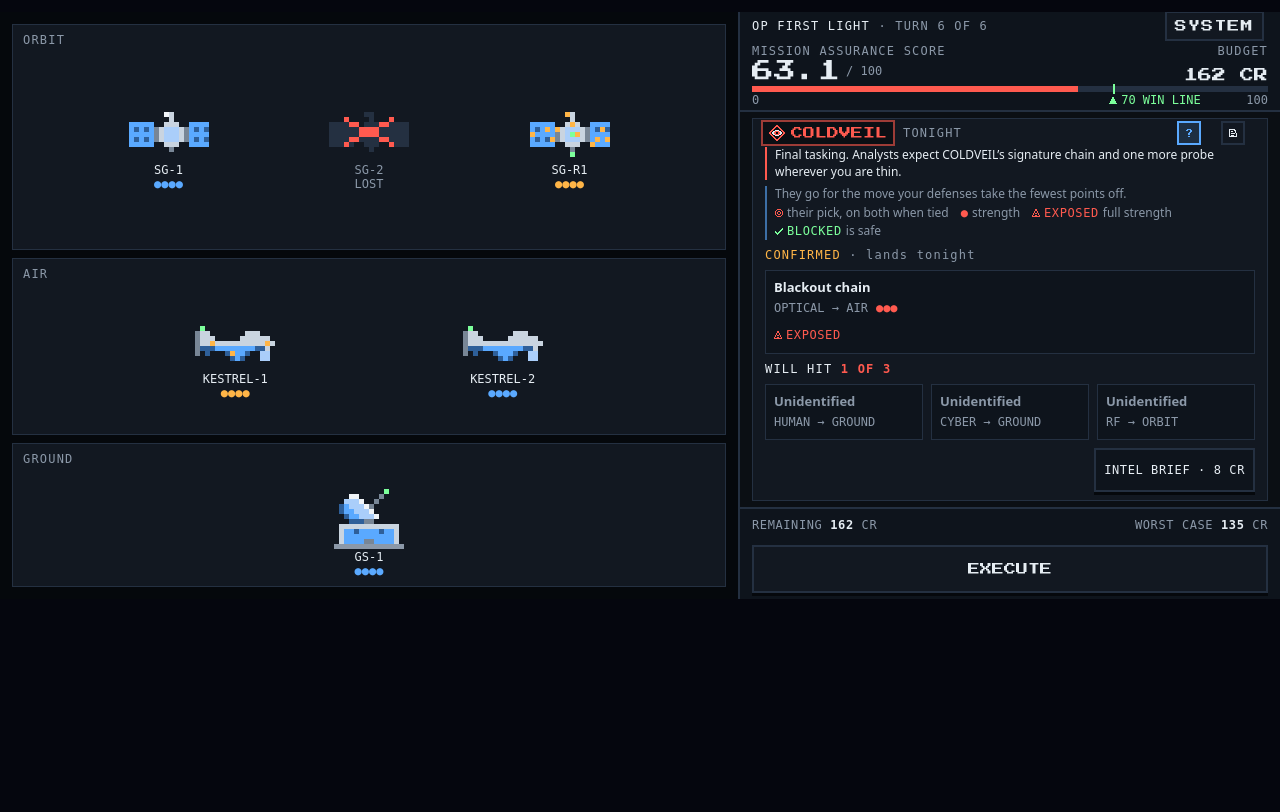
the hit card (critique row M3) › leaves PROCURE off on the last turn, when there is no next turn to order it in
The image size is (1280, 812).
Click the button "EXECUTE" at [1010, 569], box x1=752 y1=545 x2=1268 y2=593
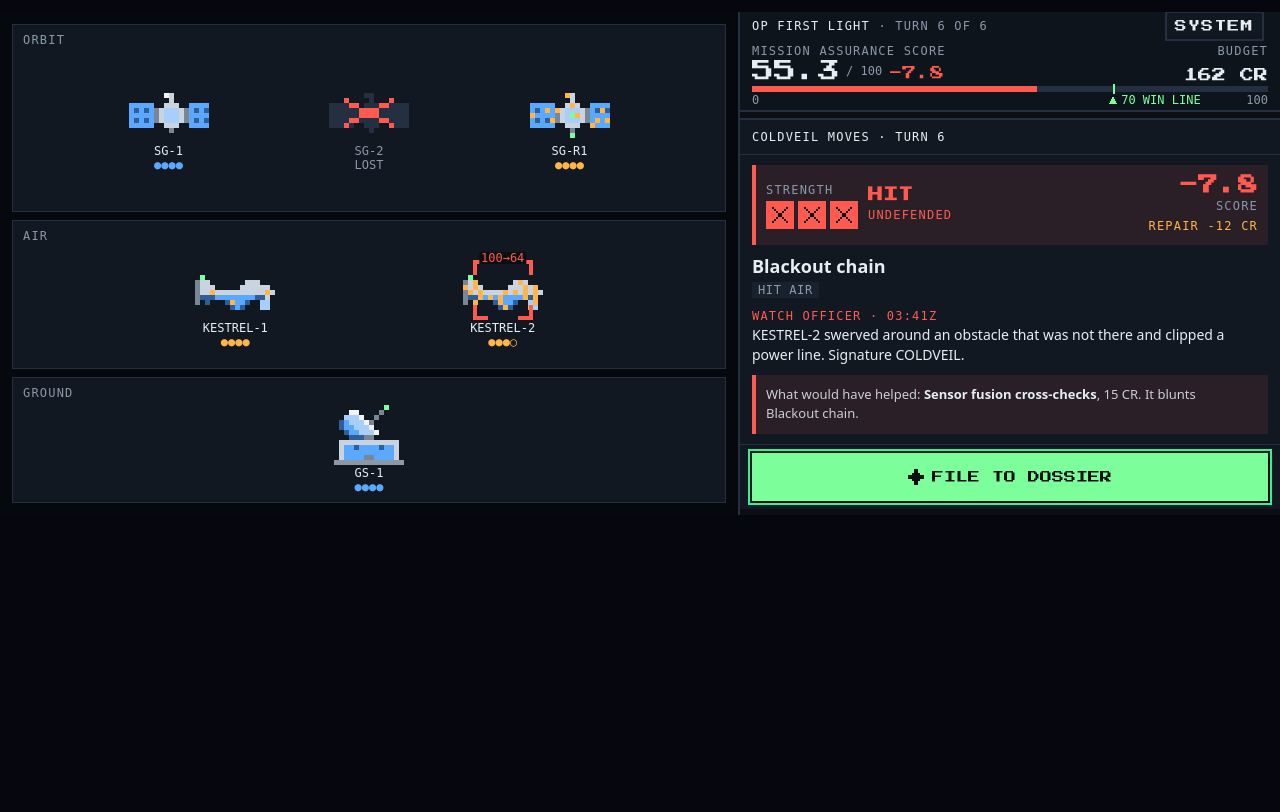
Check: the element that starts with "What would have helped:" is shown, box x1=766 y1=385 x2=1258 y2=424
